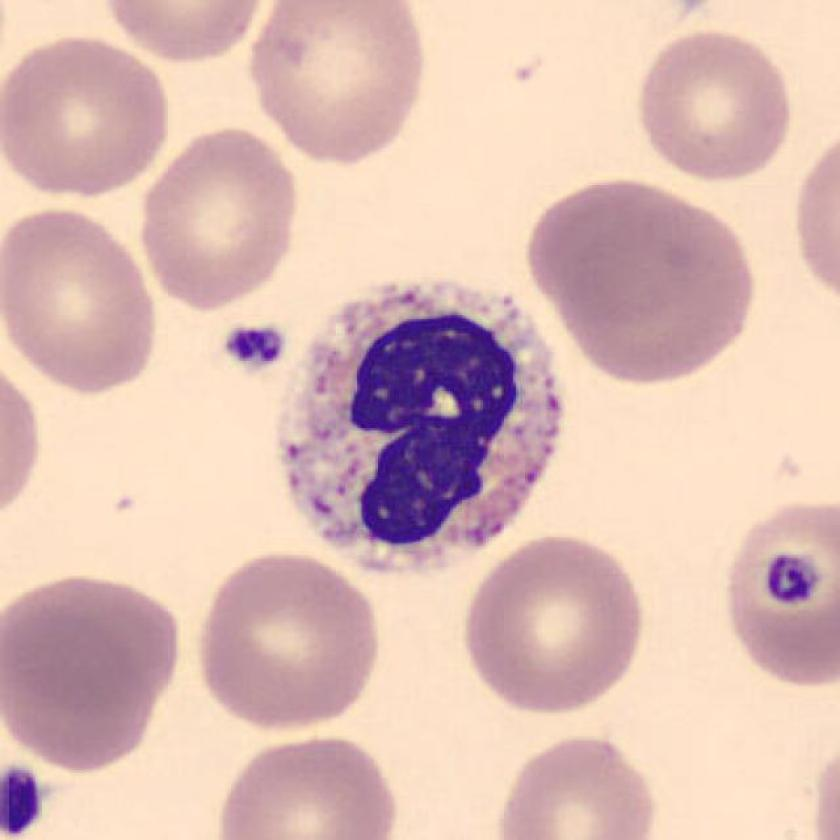neutrophil: (275, 278, 564, 571)
